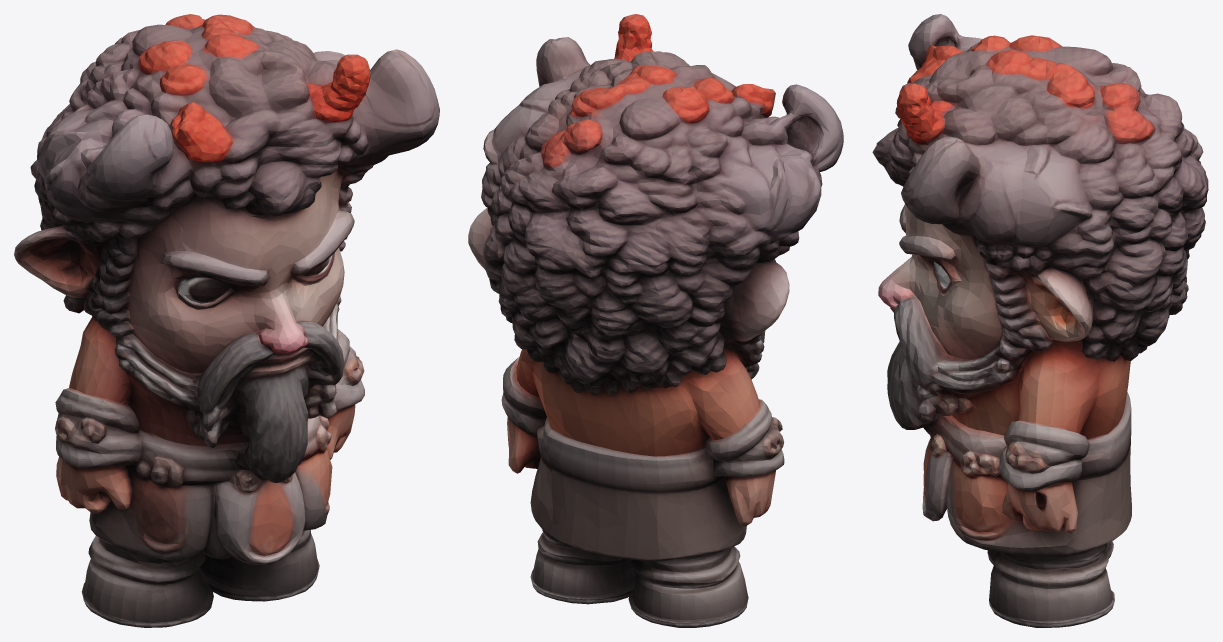
The model's file is statue_2.glb.
3 renders of one model, left to right at view 1: azimuth 30°, elevation 25°; view 2: azimuth 150°, elevation 25°; view 3: azimuth 270°, elevation 25°, orthographic. The views are drawn at different scales.
Visible parts, largest first — view 1: world; view 2: world; view 3: world.
Boxes of the visible parts, x1=… form: world: x1=14, y1=14, x2=439, y2=627; world: x1=468, y1=14, x2=843, y2=627; world: x1=872, y1=14, x2=1208, y2=627.
Bounding box in the file's own units: 0.6502 × 0.9999 × 0.575.
1 material, 1 textured.
